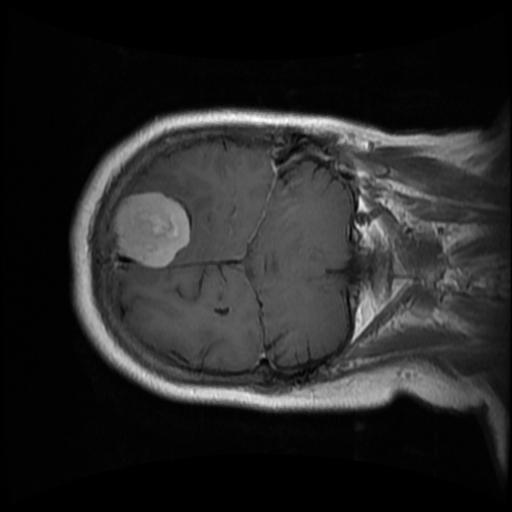meningioma: (111, 192, 191, 269)
